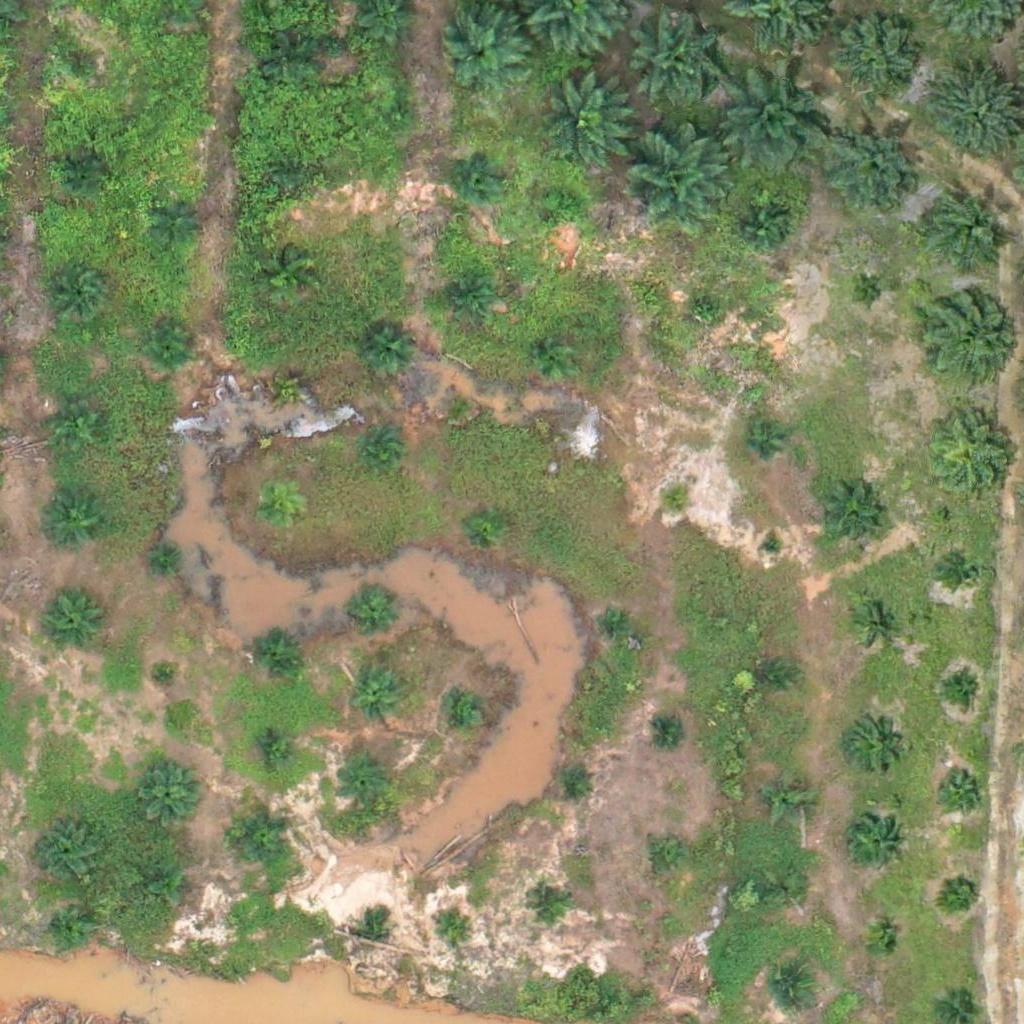Kelapa_Sawit: (721, 67, 834, 180), (915, 178, 1015, 279), (917, 284, 1017, 385), (922, 405, 1022, 506), (628, 132, 728, 233), (531, 72, 631, 172), (630, 15, 718, 103), (441, 12, 528, 101), (830, 123, 917, 212), (829, 16, 916, 104), (37, 478, 112, 554), (817, 486, 880, 549), (50, 260, 113, 323), (42, 590, 105, 652), (134, 757, 197, 819), (844, 813, 906, 876), (40, 816, 102, 879), (235, 808, 297, 870), (261, 249, 311, 300), (358, 329, 408, 380), (253, 486, 303, 537), (348, 587, 398, 638), (736, 200, 786, 251), (54, 151, 104, 202), (847, 716, 897, 767), (763, 773, 813, 824), (154, 195, 204, 246), (266, 358, 316, 409), (53, 409, 103, 459), (246, 626, 296, 676), (353, 671, 403, 721), (339, 757, 389, 807), (53, 44, 103, 94), (268, 38, 318, 88), (936, 763, 986, 813), (442, 274, 492, 324), (455, 151, 505, 201), (46, 900, 96, 950), (134, 863, 184, 913), (753, 658, 791, 696), (147, 539, 185, 577), (545, 186, 583, 224), (536, 337, 574, 375), (688, 293, 726, 331), (850, 274, 888, 312), (656, 483, 694, 521), (258, 728, 296, 766), (947, 552, 985, 590), (151, 326, 189, 363), (446, 695, 483, 733), (863, 925, 901, 962), (941, 669, 978, 707), (859, 602, 896, 640), (653, 713, 691, 750), (529, 888, 566, 926), (770, 871, 808, 908), (943, 873, 980, 911), (274, 153, 311, 191), (379, 98, 416, 136), (740, 422, 777, 460), (437, 383, 474, 421), (148, 653, 185, 691), (433, 912, 470, 950), (363, 433, 400, 470), (771, 969, 808, 1006), (551, 761, 588, 798), (648, 839, 685, 876), (468, 506, 505, 543), (599, 604, 636, 641), (356, 918, 381, 944), (759, 532, 784, 557)
